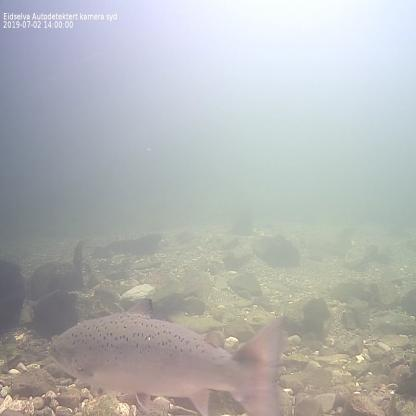salmon: (47, 296, 287, 416)
